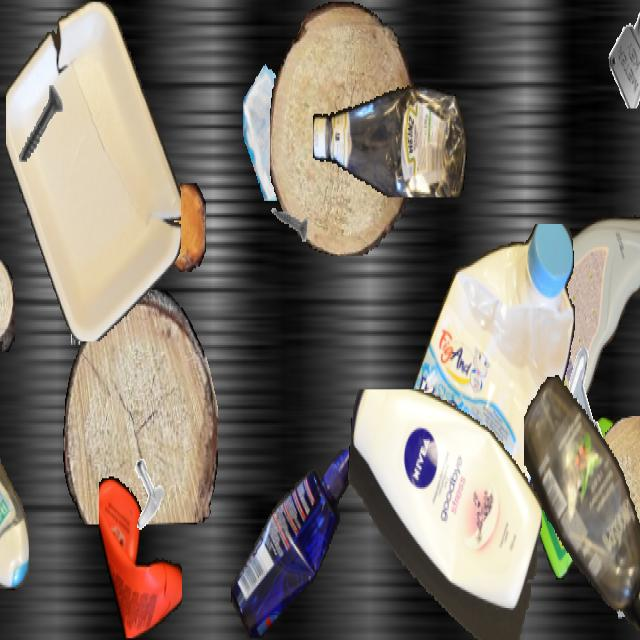glass: (243, 51, 327, 201), (411, 354, 473, 464), (613, 517, 640, 617)
metal: (9, 70, 71, 180), (557, 345, 619, 455), (63, 261, 109, 343), (607, 2, 640, 108), (123, 455, 167, 533), (268, 188, 308, 260)
plastic: (392, 224, 578, 590), (6, 2, 180, 340), (346, 390, 542, 638), (504, 203, 640, 430), (524, 372, 640, 638), (230, 450, 360, 638), (313, 76, 467, 198), (530, 416, 640, 580), (99, 471, 181, 638), (0, 391, 28, 590)
wood: (270, 2, 414, 254), (63, 290, 217, 524), (46, 166, 138, 300), (587, 416, 640, 572), (163, 183, 205, 272), (0, 260, 14, 352)
